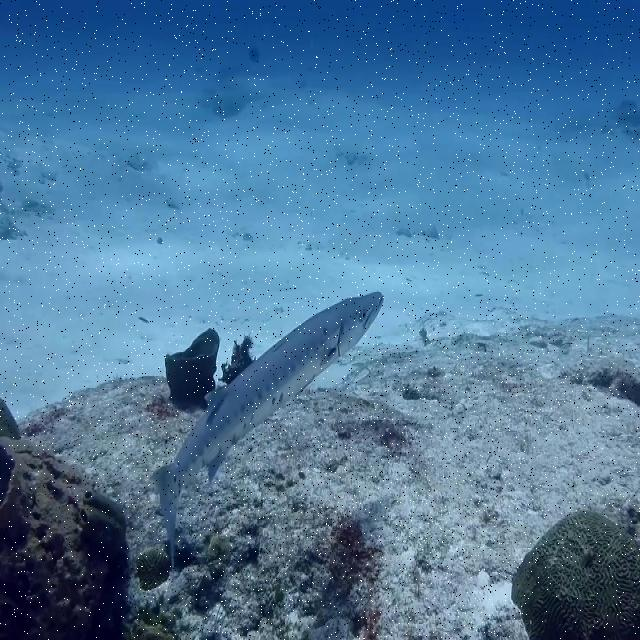fish: (147, 291, 385, 567)
sea-floor: (0, 397, 130, 638), (509, 512, 639, 638), (165, 328, 220, 411), (224, 334, 255, 379)
